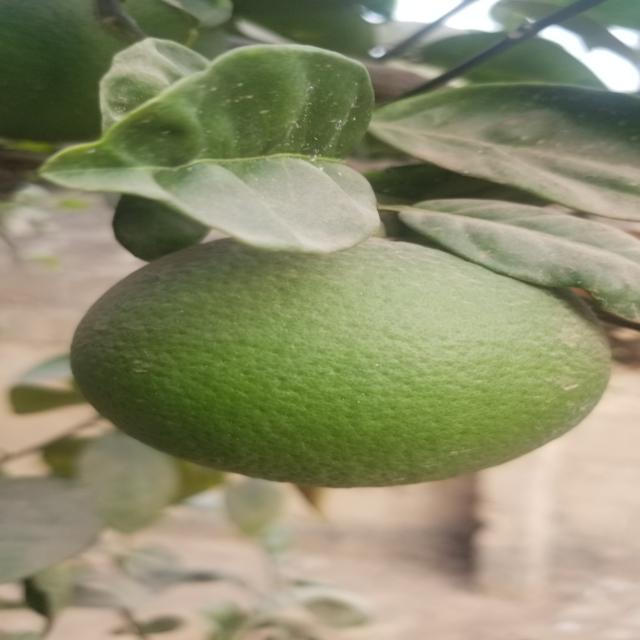Unripe: (78, 233, 604, 486)
